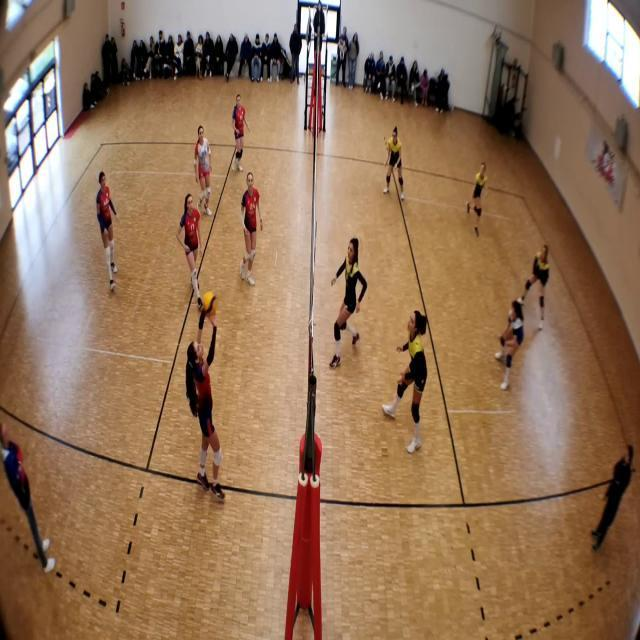volleyball: (202, 291, 216, 315)
